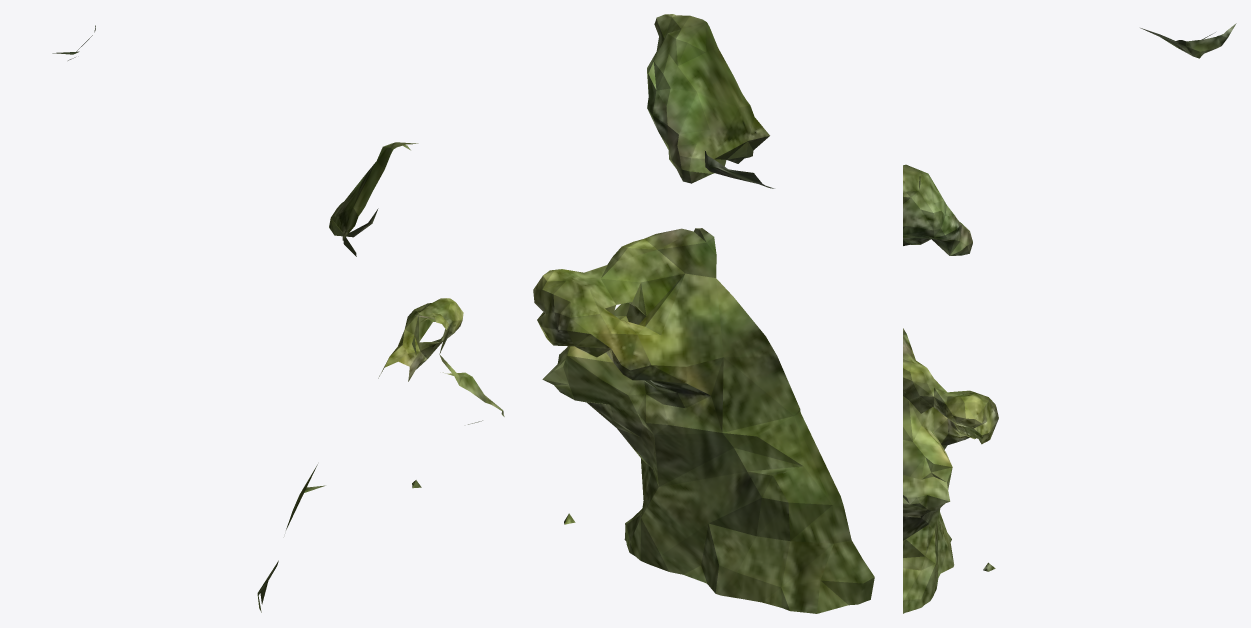
3 renders of one model, left to right at view 1: azimuth 30°, elevation 25°; view 2: azimuth 150°, elevation 25°; view 3: azimuth 270°, elevation 25°, orthographic. The views are drawn at different scales.
Bounding box in the file's own units: 2.04 × 2.95 × 1.9.
1 material, 1 textured.
